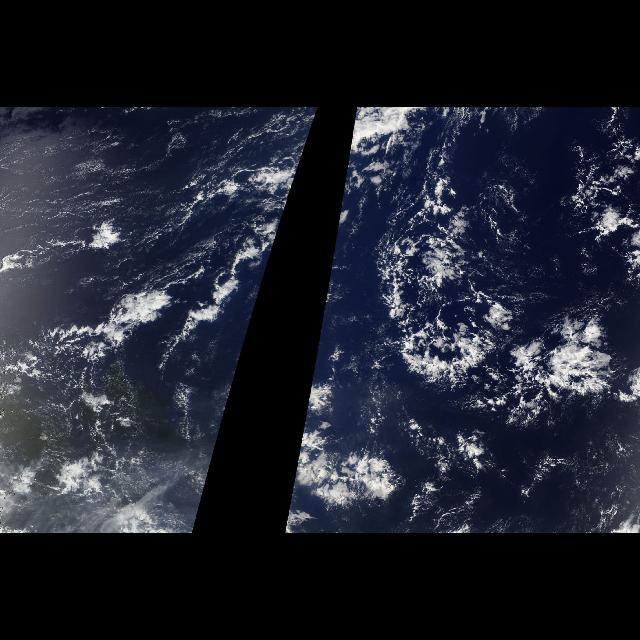Fish: (388, 218, 614, 418)
Sugar: (0, 118, 250, 232)
